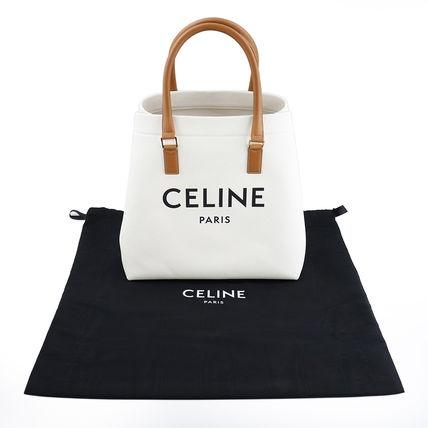CELINE: (163, 186, 265, 208), (183, 288, 246, 299)
